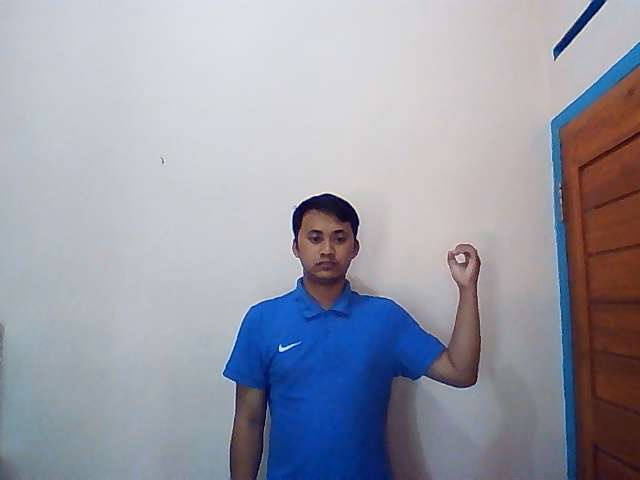O: (446, 242, 482, 287)
